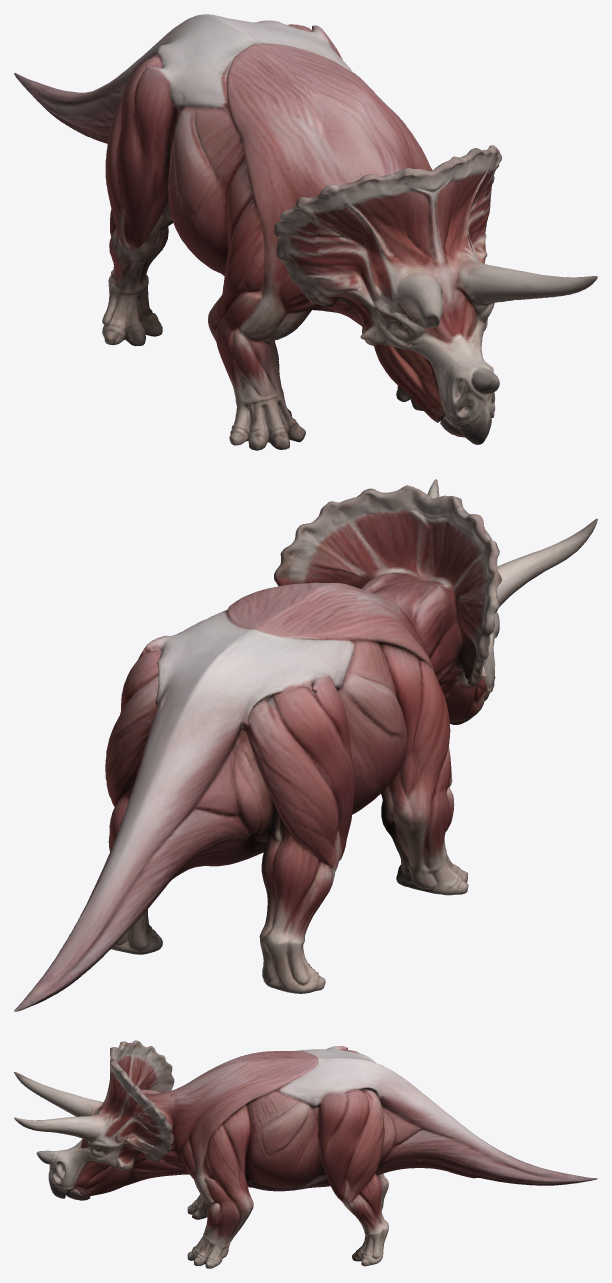
File: tri_muscle.glb
The picture shows the model from 3 angles, top to bottom: view 1: azimuth 30°, elevation 25°; view 2: azimuth 150°, elevation 25°; view 3: azimuth 270°, elevation 25°; orthographic projection. The views are drawn at different scales.
Visible parts, largest first — view 1: node_0; view 2: node_0; view 3: node_0.
Part boxes in pixels (left/top/right/bottom): node_0: left=14, top=14, right=597, bottom=450; node_0: left=14, top=479, right=597, bottom=1011; node_0: left=14, top=1040, right=597, bottom=1268.
Size of the model in its own units: 0.3156 by 0.4 by 1.16.
1 material, 1 textured.
